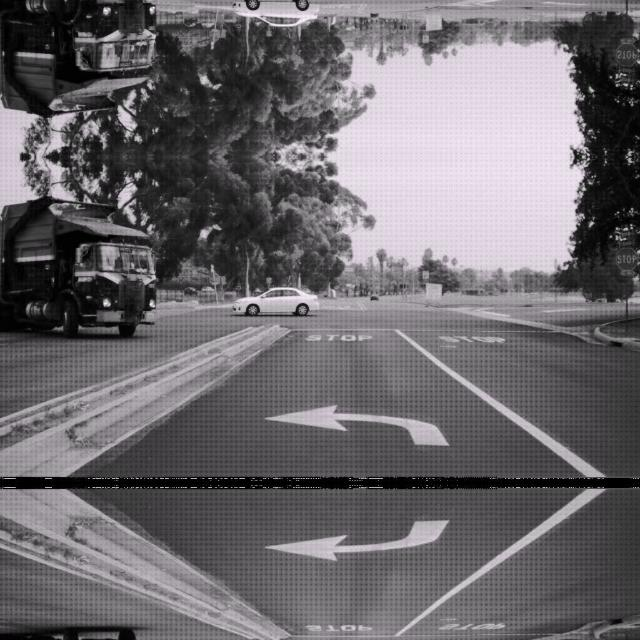stop: (614, 244, 638, 270), (614, 42, 638, 68)
